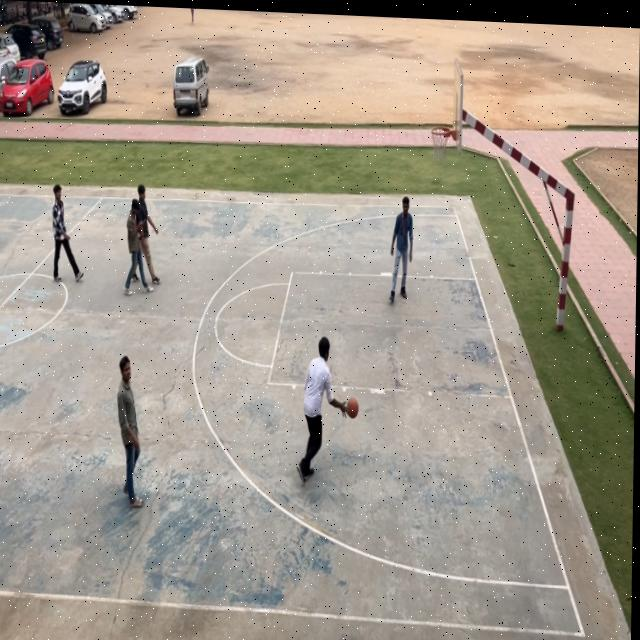basketball: (346, 393, 362, 426)
hoop: (428, 124, 452, 165)
